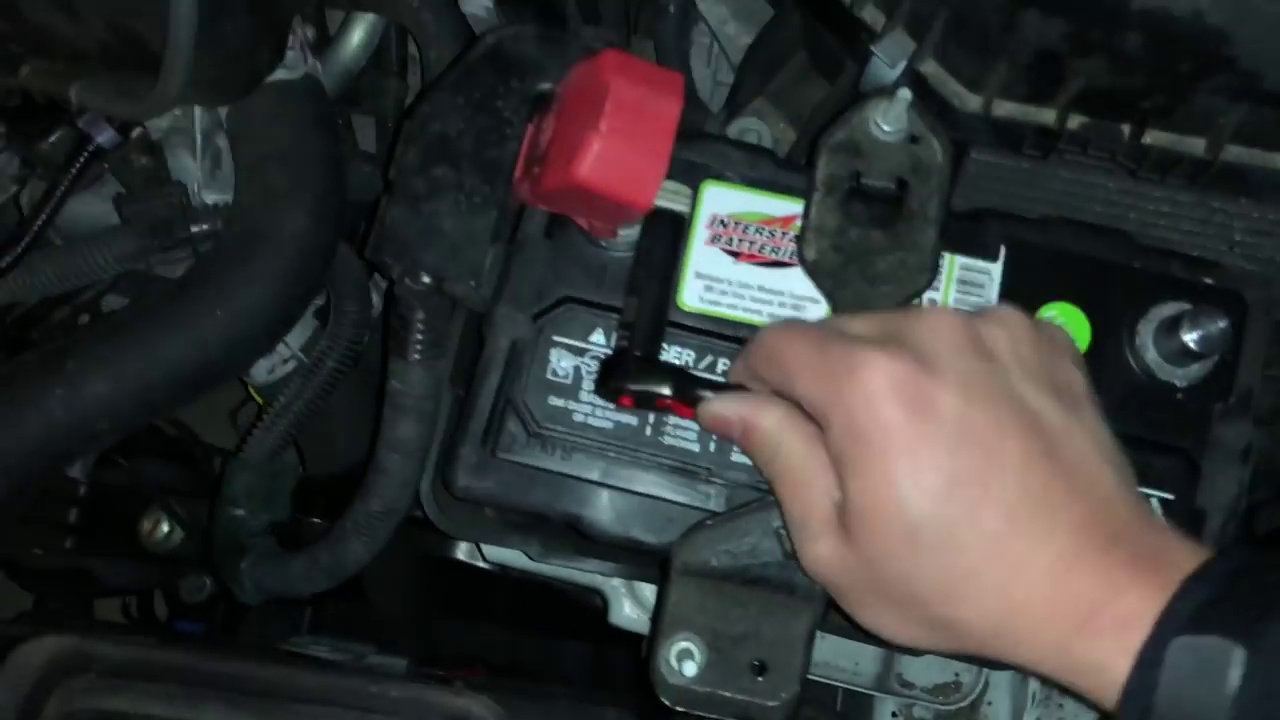battery: (478, 118, 1247, 619)
neg_disconnected: (1119, 249, 1247, 403)
pos_connected: (502, 74, 700, 254)
